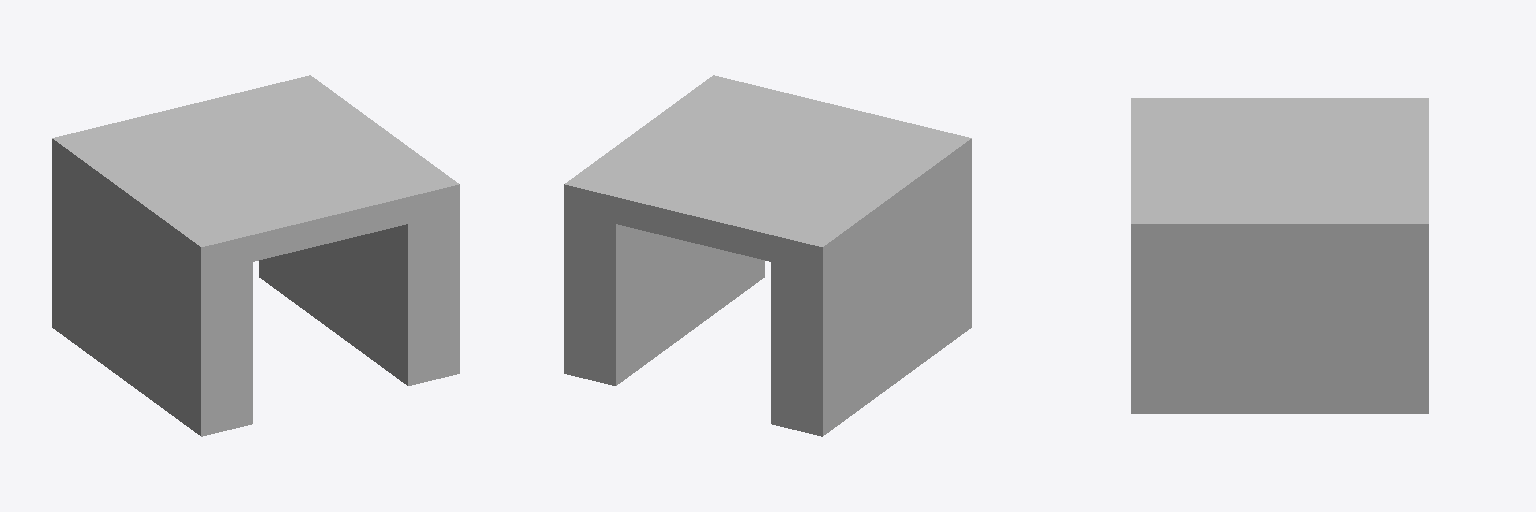
Rendered from floor.obj.
3 renders of one model, left to right at view 1: azimuth 30°, elevation 25°; view 2: azimuth 150°, elevation 25°; view 3: azimuth 270°, elevation 25°, orthographic.
Bounding box in the file's own units: 10 × 7 × 10.